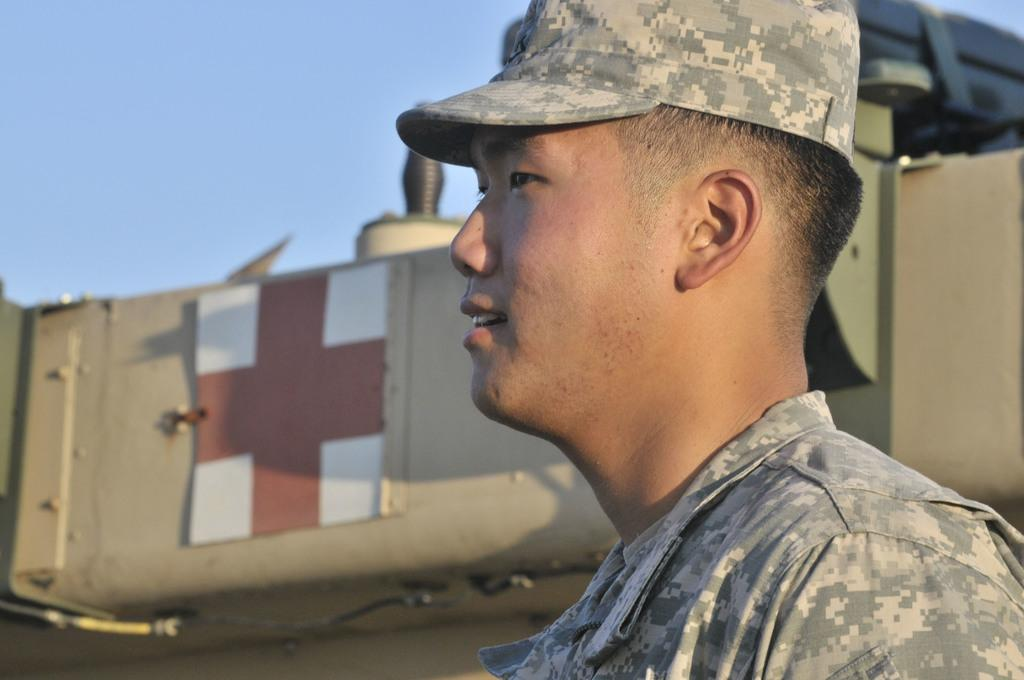Hat: (389, 0, 851, 169)
